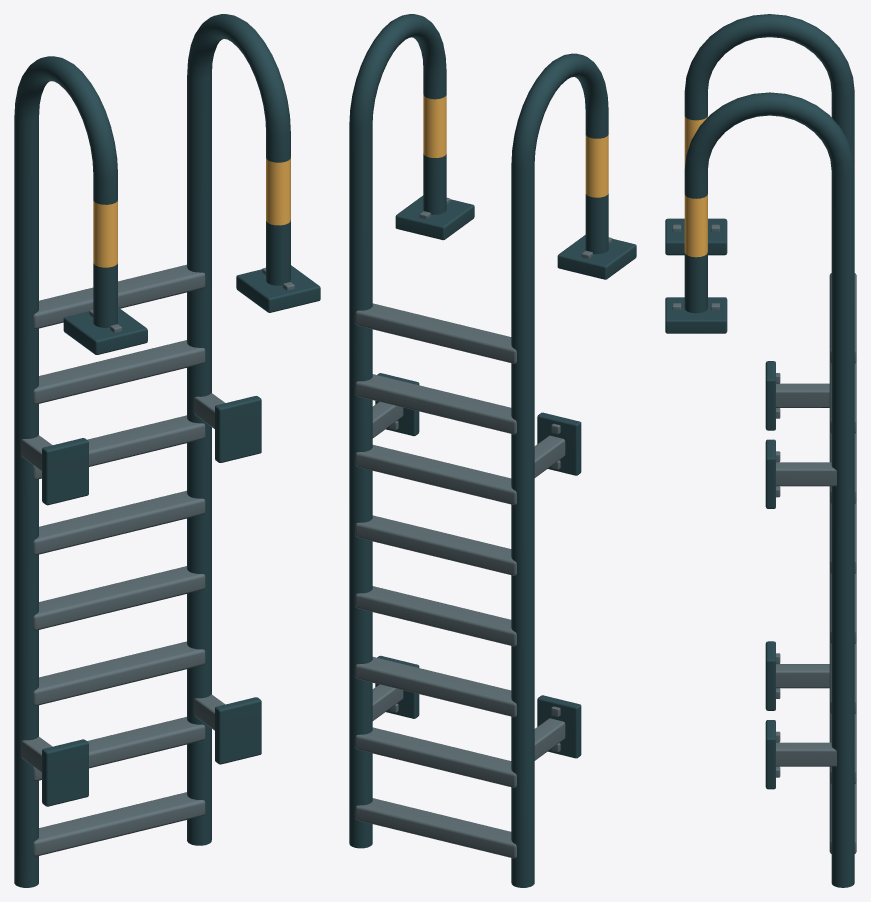
The model's file is city_quay_furniture_03.glb.
3 views of the same model, side by side, from view 1: azimuth 30°, elevation 25°; view 2: azimuth 150°, elevation 25°; view 3: azimuth 270°, elevation 25° (orthographic). The views are drawn at different scales.
Parts seen in each view (by area): view 1: CityQuayFurniture03_Mesh; view 2: CityQuayFurniture03_Mesh; view 3: CityQuayFurniture03_Mesh.
Part boxes in pixels (left/top/right/bottom): CityQuayFurniture03_Mesh: left=14, top=14, right=320, bottom=887; CityQuayFurniture03_Mesh: left=349, top=14, right=636, bottom=887; CityQuayFurniture03_Mesh: left=665, top=14, right=856, bottom=887.
Size of the model in its own units: 0.94 by 3.38 by 0.7425.
